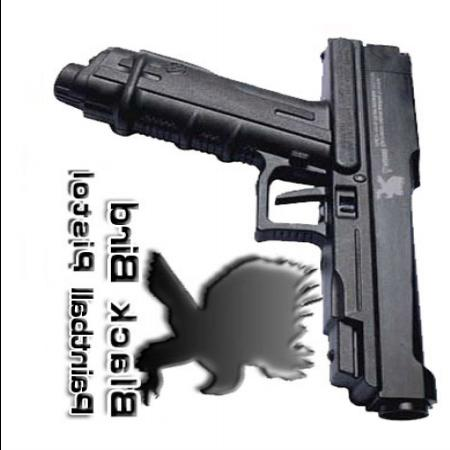Pistol: (54, 38, 440, 422)
